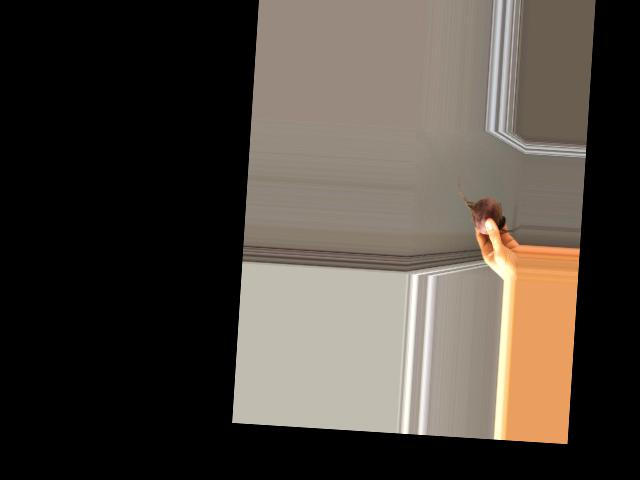beet: (454, 176, 524, 236)
